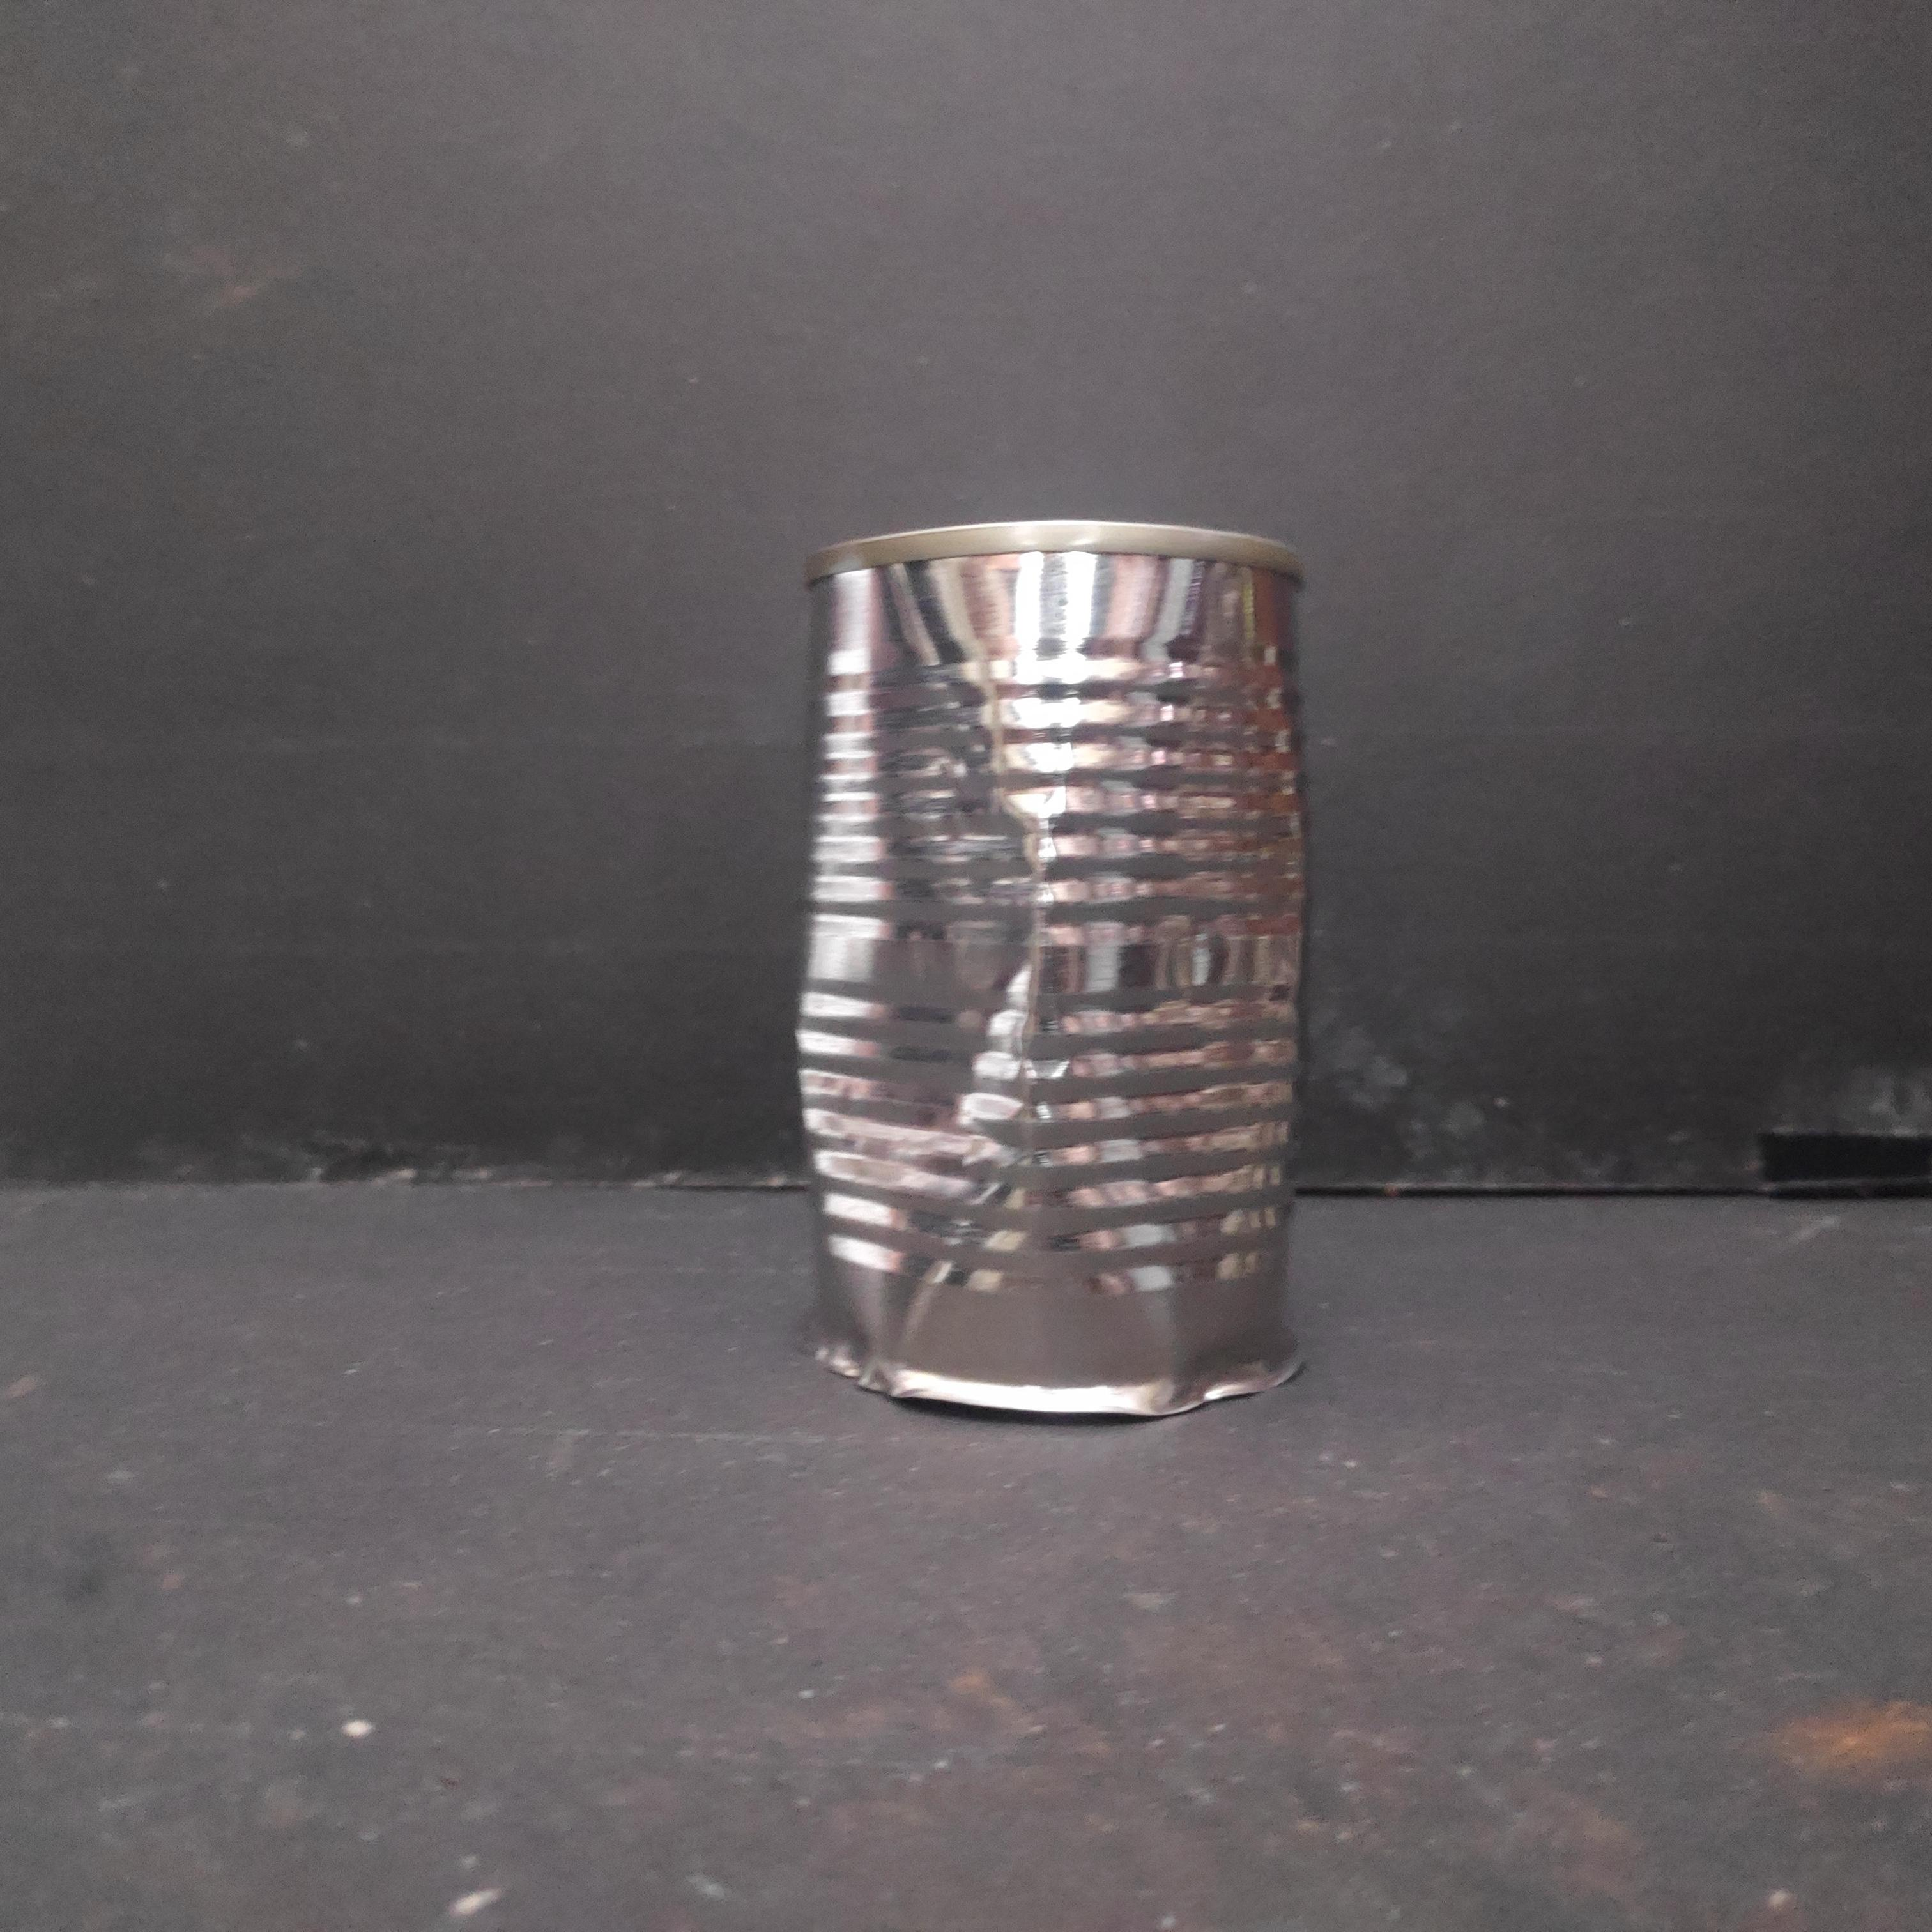Minor Defect: (780, 511, 1332, 1426)
